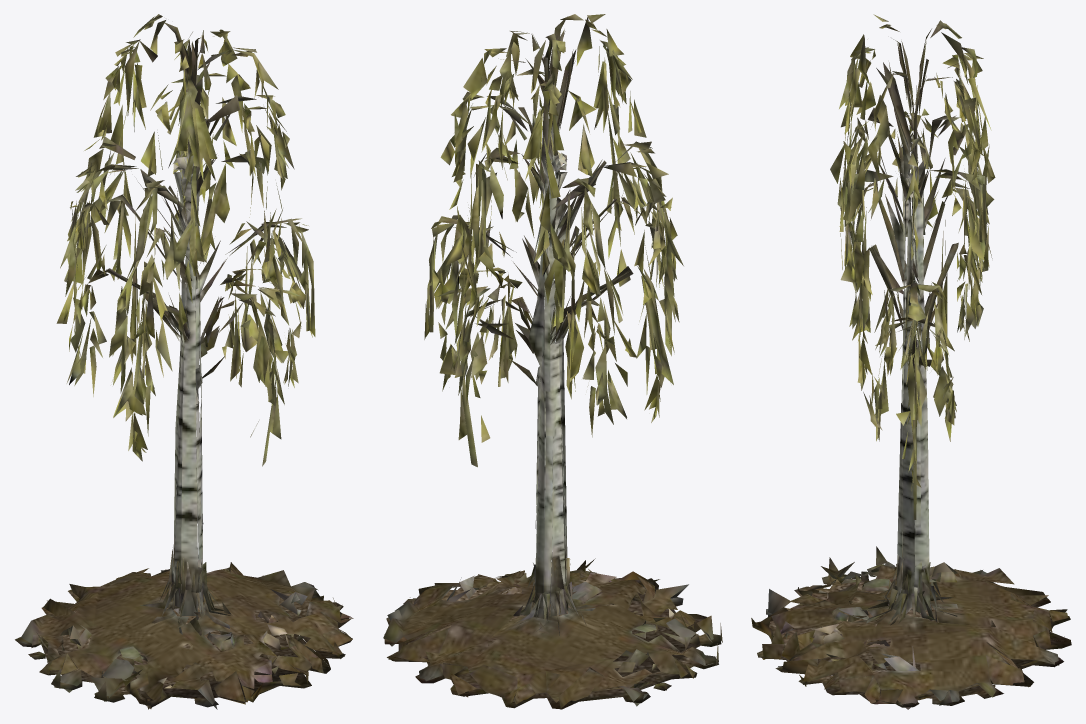
Rendered from tr_birch_a2_far.glb.
3 views of the same model, side by side, from view 1: azimuth 30°, elevation 25°; view 2: azimuth 150°, elevation 25°; view 3: azimuth 270°, elevation 25° (orthographic). The views are drawn at different scales.
Visible parts, largest first — view 1: tr_birch_a2; view 2: tr_birch_a2; view 3: tr_birch_a2.
Part boxes in pixels (left/top/right/bottom): tr_birch_a2: left=15, top=14, right=353, bottom=709; tr_birch_a2: left=383, top=14, right=722, bottom=709; tr_birch_a2: left=751, top=14, right=1071, bottom=709.
Size of the model in its own units: 6.11 by 12.18 by 5.75.
1 material, 1 textured.
